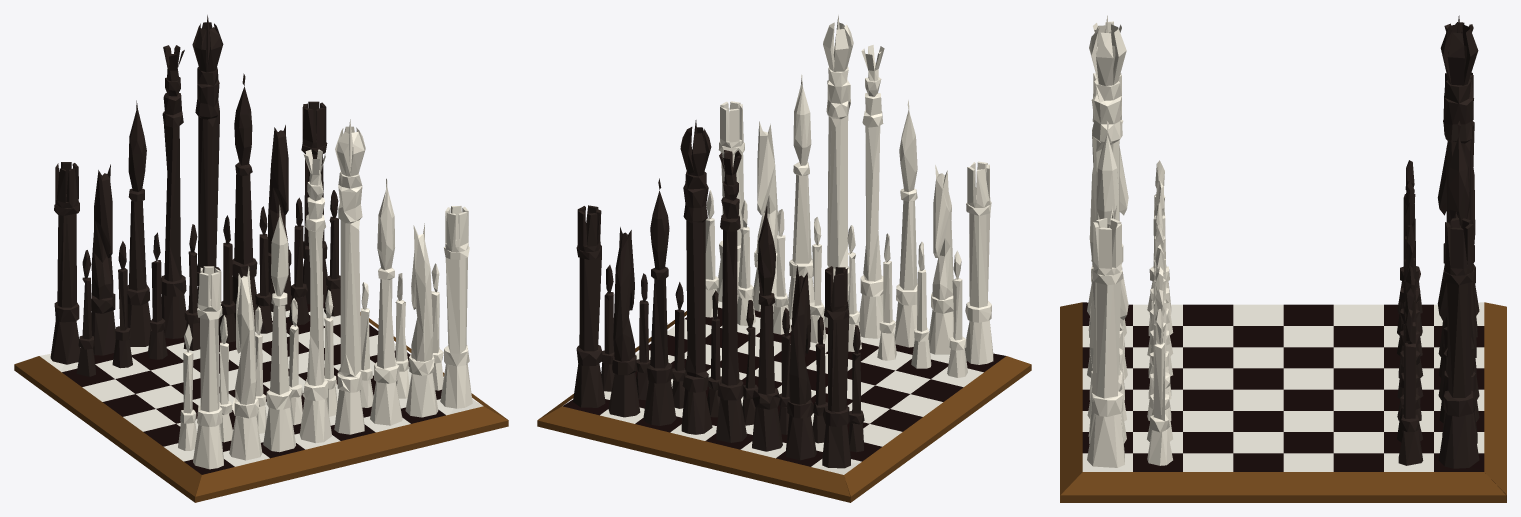
File: sh-bsby-chessboard.glb
The picture shows the model from 3 angles, left to right: view 1: azimuth 30°, elevation 25°; view 2: azimuth 150°, elevation 25°; view 3: azimuth 270°, elevation 25°; orthographic projection. The views are drawn at different scales.
Parts seen in each view (by area): view 1: rook.003_Cylinder.013, pie.007_Cylinder.002, Plane.001, Plane; view 2: pie.007_Cylinder.002, rook.003_Cylinder.013, Plane.001, Plane; view 3: Plane.001, Plane, pie.007_Cylinder.002, rook.003_Cylinder.013.
Part boxes in pixels (box(x1,y1,x2,y2)): rook.003_Cylinder.013: box(178, 119, 472, 469); pie.007_Cylinder.002: box(50, 15, 340, 376); Plane.001: box(40, 302, 483, 474); Plane: box(14, 312, 508, 502); pie.007_Cylinder.002: box(573, 120, 864, 468); rook.003_Cylinder.013: box(705, 15, 993, 377); Plane.001: box(563, 301, 1005, 474); Plane: box(537, 311, 1031, 502); Plane.001: box(1082, 302, 1484, 471); Plane: box(1060, 302, 1506, 502); pie.007_Cylinder.002: box(1397, 15, 1479, 468); rook.003_Cylinder.013: box(1087, 15, 1173, 467).
Size of the model in its own units: 1 by 1 by 1.
